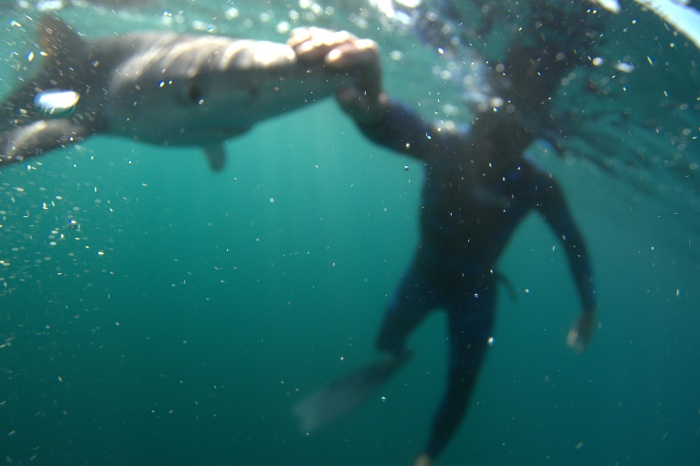Azul: (7, 1, 367, 193)
